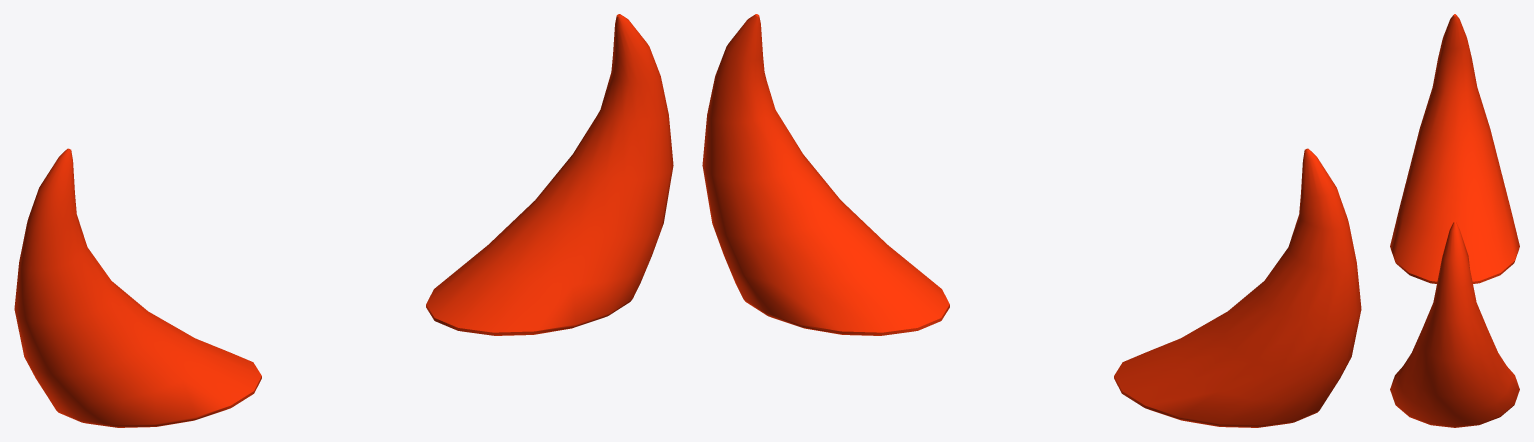
Rendered from horns-red.glb.
The picture shows the model from 3 angles, left to right: view 1: azimuth 30°, elevation 25°; view 2: azimuth 150°, elevation 25°; view 3: azimuth 270°, elevation 25°; orthographic projection. The views are drawn at different scales.
Visible parts, largest first — view 1: Horns; view 2: Horns; view 3: Horns.
Part boxes in pixels (bbox=[...]): Horns: bbox=[14, 14, 673, 427]; Horns: bbox=[702, 14, 1361, 427]; Horns: bbox=[1390, 14, 1519, 427].
Size of the model in its own units: 7.44 by 2.89 by 1.67.
